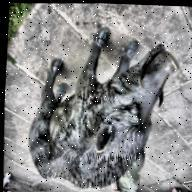boar: (19, 9, 192, 192)
